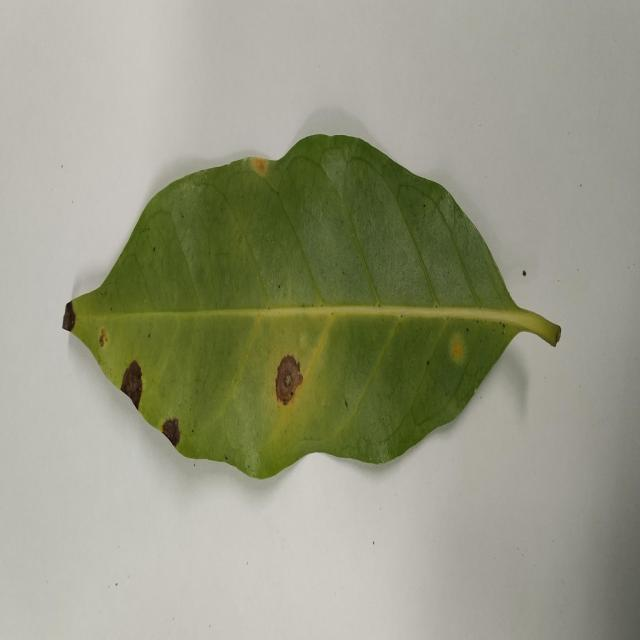Enfermedad-Mancha-de-hierro: (61, 132, 562, 483)
